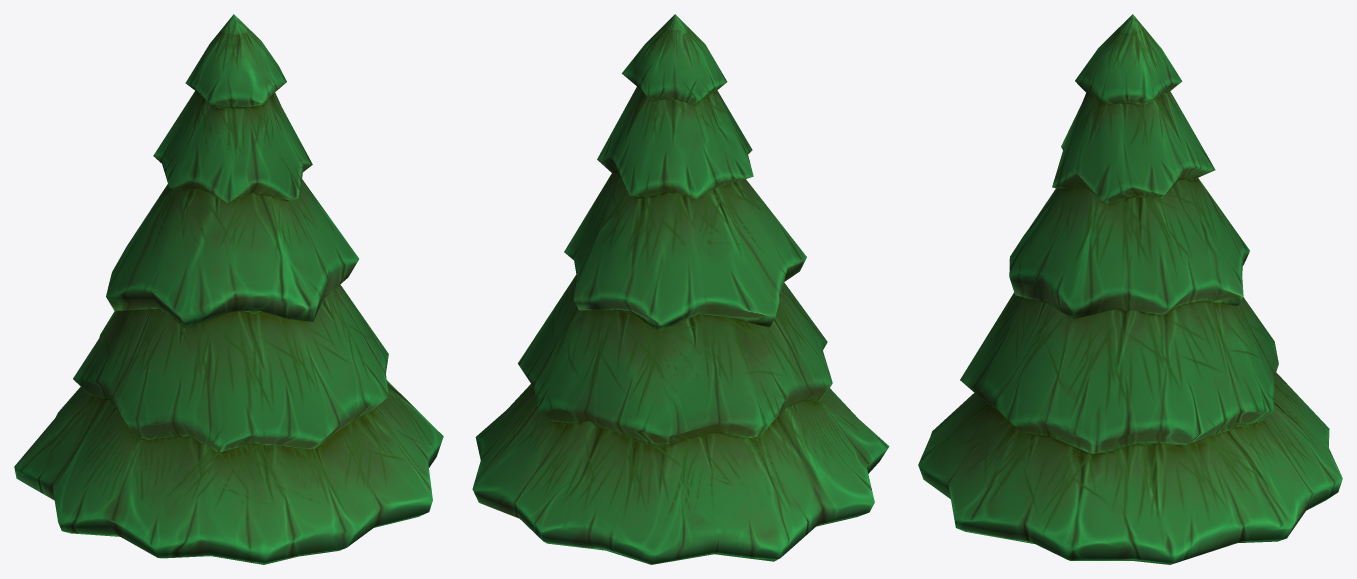
3 renders of one model, left to right at view 1: azimuth 30°, elevation 25°; view 2: azimuth 150°, elevation 25°; view 3: azimuth 270°, elevation 25°, orthographic.
Visible parts, largest first — view 1: Christmas_Tree; view 2: Christmas_Tree; view 3: Christmas_Tree.
Boxes of the visible parts, bbox=[...] form: Christmas_Tree: bbox=[14, 14, 443, 564]; Christmas_Tree: bbox=[472, 14, 889, 564]; Christmas_Tree: bbox=[918, 14, 1342, 564].
Size of the model in its own units: 1112 by 1519 by 1114.
Materials: 2 (2 with a texture image).
